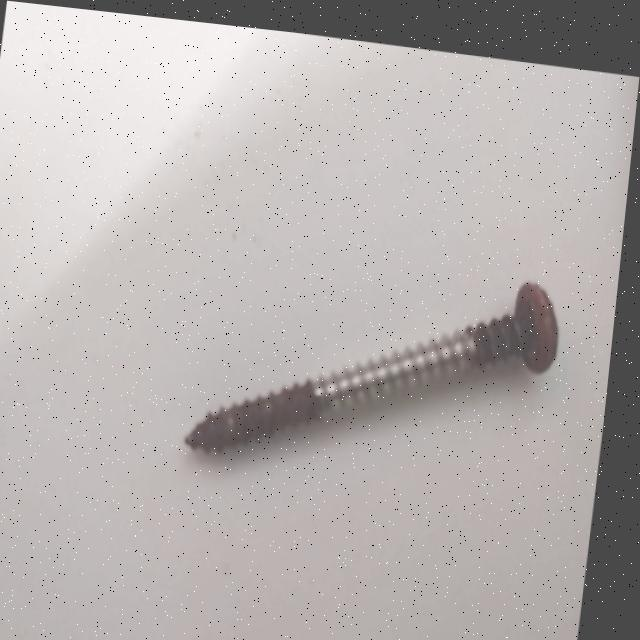corrosion: (190, 354, 337, 463), (463, 262, 572, 368)
